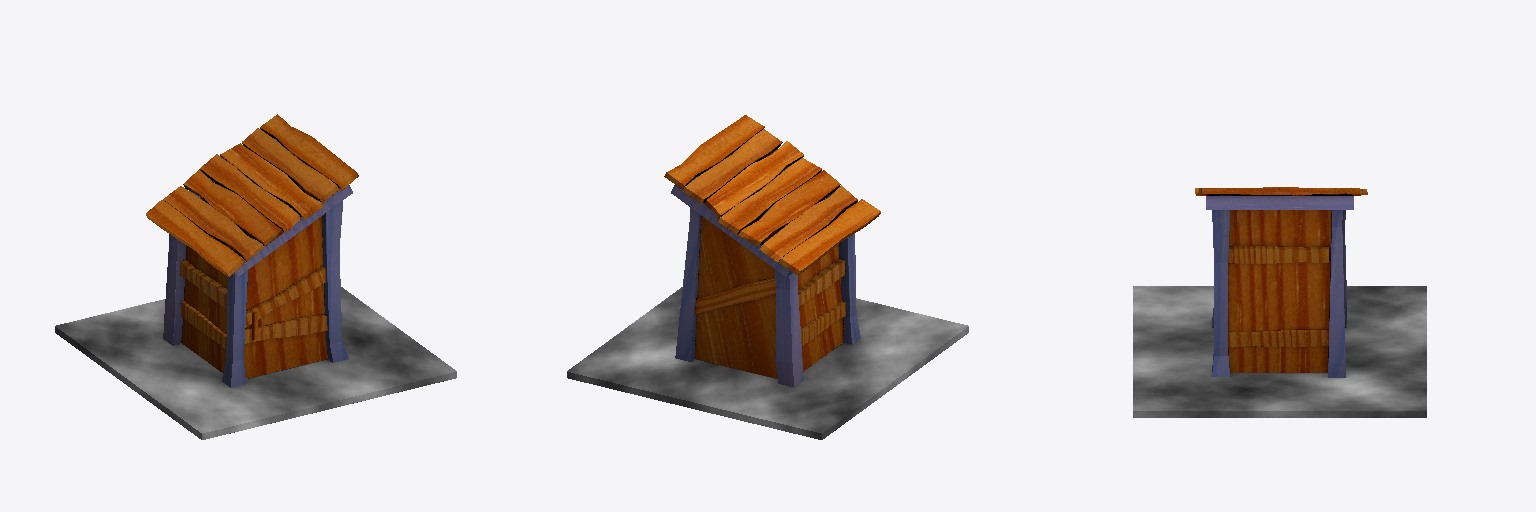
3 views of the same model, side by side, from view 1: azimuth 30°, elevation 25°; view 2: azimuth 150°, elevation 25°; view 3: azimuth 270°, elevation 25° (orthographic).
Parts seen in each view (by area): view 1: pCube27; view 2: pCube27; view 3: pCube27.
Part boxes in pixels (left/top/right/bottom): pCube27: left=55, top=114, right=456, bottom=439; pCube27: left=567, top=115, right=968, bottom=439; pCube27: left=1133, top=187, right=1426, bottom=417.
Size of the model in its own units: 10 by 7.44 by 10.
1 materials, 1 textured.